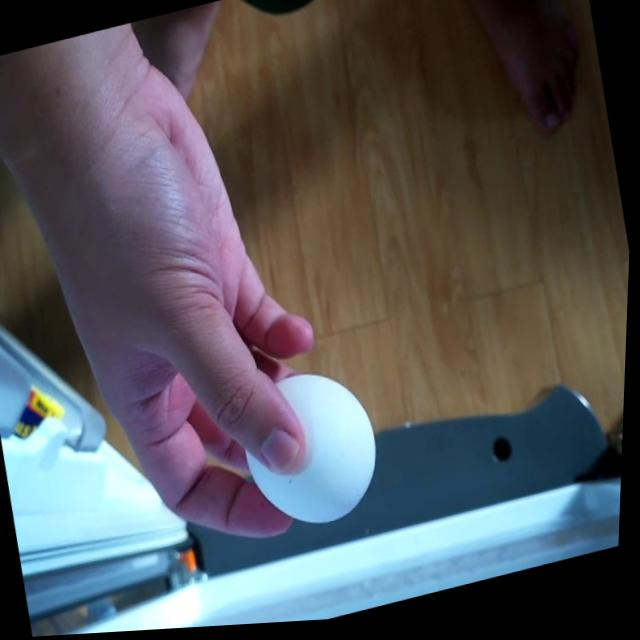egg: (223, 356, 393, 545)
